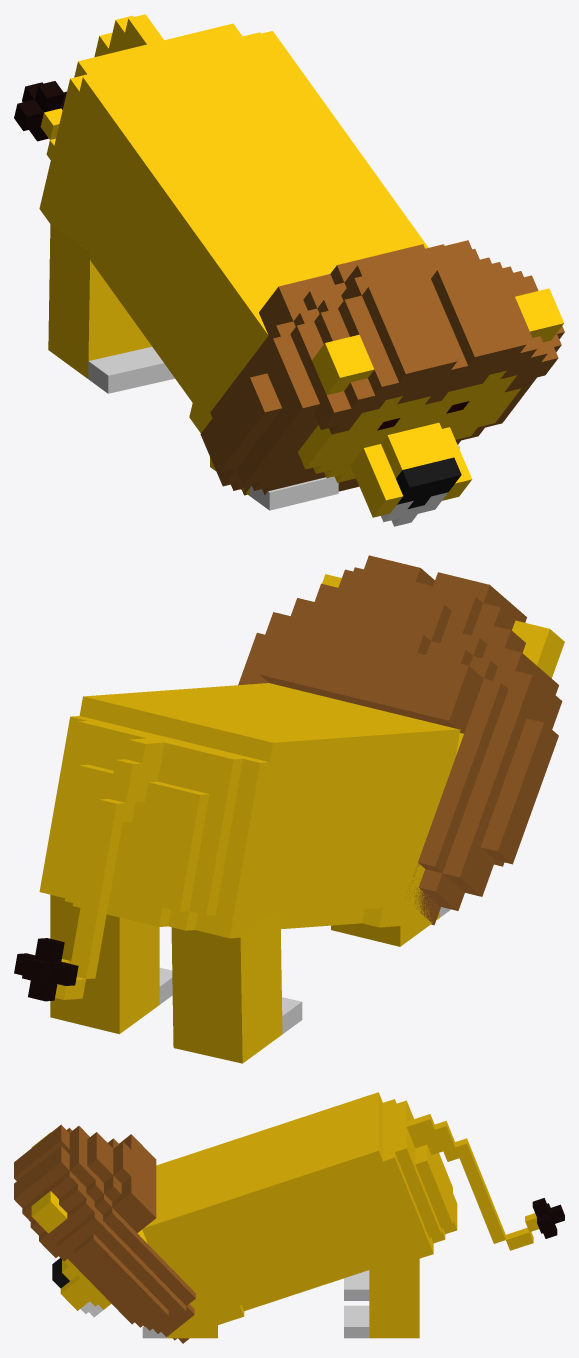
Rendered from Lion-drink.fbx.
3 renders of one model, top to bottom at view 1: azimuth 30°, elevation 25°; view 2: azimuth 150°, elevation 25°; view 3: azimuth 270°, elevation 25°, orthographic. The views are drawn at different scales.
Visible parts, largest first — view 1: Body, Head, RIght Back leg, Right Front Leg; view 2: Body, Head, RIght Back leg, Left Back Leg, Right Front Leg; view 3: Body, Head, Left Back Leg, Left Front Leg, RIght Back leg.
Part boxes in pixels (x1,y1,x2,y2): Body: (14,14,428,432); Head: (200,240,564,526); RIght Back leg: (48,223,174,393); Right Front Leg: (210,350,338,510); Body: (14,683,460,1001); Head: (238,555,564,925); RIght Back leg: (171,908,302,1063); Left Back Leg: (50,894,172,1034); Right Front Leg: (331,791,450,946); Body: (142,1092,564,1324); Head: (14,1124,195,1343); Left Back Leg: (344,1259,419,1338); Left Front Leg: (142,1258,217,1338); RIght Back leg: (344,1270,369,1300).
Bounding box in the file's own units: 170 × 178 × 437.
1 material, 1 textured.
